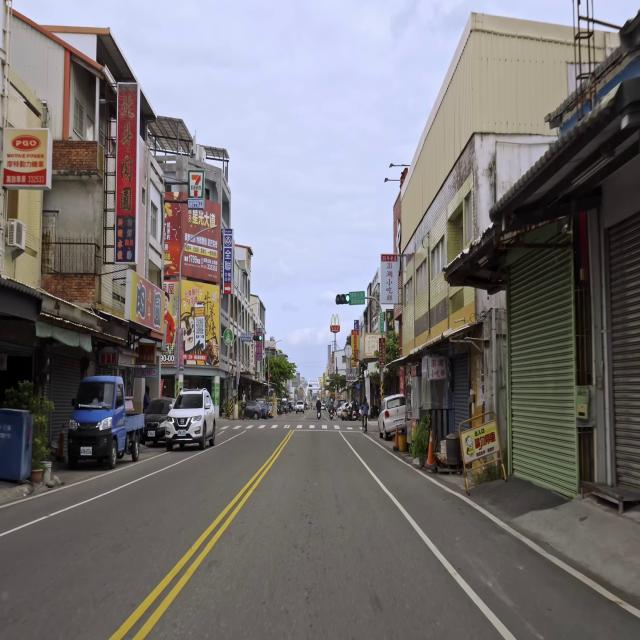green light: (336, 294, 350, 303), (253, 334, 262, 341)
